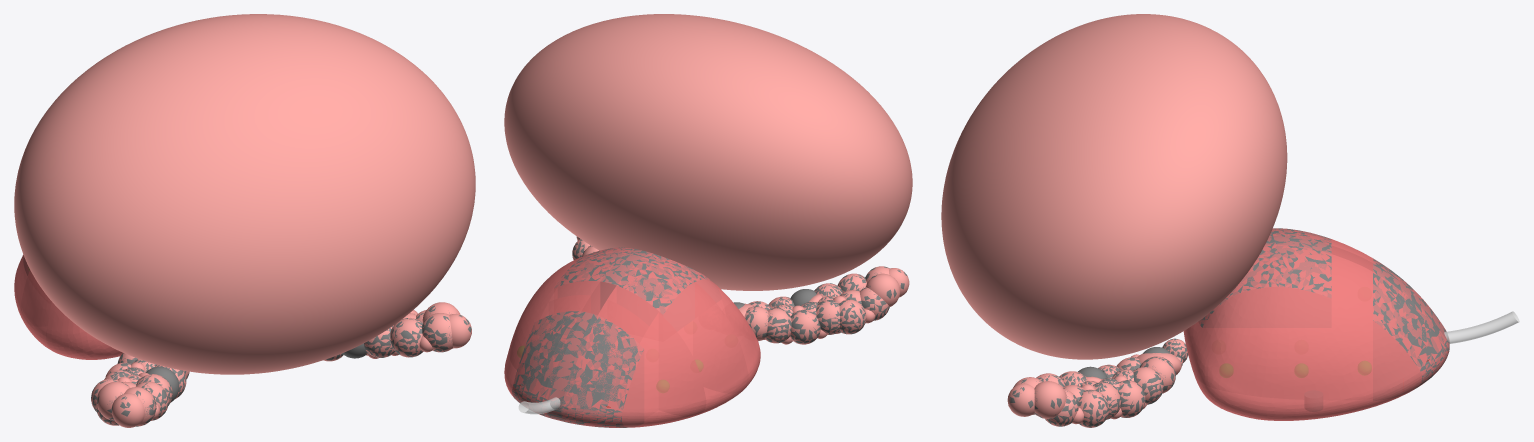
The model's file is ProstateTracked_Bladder_SV_2.fbx.
3 renders of one model, left to right at view 1: azimuth 30°, elevation 25°; view 2: azimuth 150°, elevation 25°; view 3: azimuth 270°, elevation 25°, orthographic. The views are drawn at different scales.
Visible parts, largest first — view 1: Bladder_2, S Vesicles S Spheres, Simple Prostate, S Vesicles L Spheres, Sextant Volume 7, Sextant Volume 9, Sextant Volume 11; view 2: Bladder_2, Simple Prostate, Apex Zone, Sextant Volume 11, S Vesicles S Spheres, Sextant Volume 9, Anterior Zone, S Vesicles L Spheres, Sextant Volume 12, Sextant Volume 6, Sextant Volume 7, Sextant Volume 10 (+4 smaller); view 3: Bladder_2, Simple Prostate, Sextant Volume 3, Sextant Volume 5, Sextant Volume 1, S Vesicles S Spheres, Apex Zone, S Vesicles L Spheres, Anterior Zone, Sextant Volume 6, Sextant Volume 4, Urethra Simple.
Boxes of the visible parts, <box> form: Bladder_2: <box>14,14,475,374</box>; S Vesicles S Spheres: <box>91,302,471,427</box>; Simple Prostate: <box>14,255,122,359</box>; S Vesicles L Spheres: <box>91,305,471,426</box>; Sextant Volume 7: <box>46,304,122,359</box>; Sextant Volume 9: <box>20,270,53,349</box>; Sextant Volume 11: <box>14,255,29,314</box>; Bladder_2: <box>504,14,912,290</box>; Simple Prostate: <box>504,248,760,427</box>; Apex Zone: <box>512,311,643,427</box>; Sextant Volume 11: <box>613,313,706,427</box>; S Vesicles S Spheres: <box>572,236,909,344</box>; Sextant Volume 9: <box>659,281,748,413</box>; Anterior Zone: <box>554,247,711,314</box>; S Vesicles L Spheres: <box>572,236,906,343</box>; Sextant Volume 12: <box>563,300,648,427</box>; Sextant Volume 6: <box>516,295,590,416</box>; Sextant Volume 7: <box>695,278,760,385</box>; Sextant Volume 10: <box>607,254,689,325</box>; Bladder_2: <box>941,14,1287,359</box>; Simple Prostate: <box>1183,228,1449,420</box>; Sextant Volume 3: <box>1262,283,1333,420</box>; Sextant Volume 5: <box>1333,295,1427,416</box>; Sextant Volume 1: <box>1190,286,1261,419</box>; S Vesicles S Spheres: <box>1007,339,1187,427</box>; Apex Zone: <box>1373,258,1449,389</box>; S Vesicles L Spheres: <box>1010,338,1187,427</box>; Anterior Zone: <box>1200,228,1331,327</box>; Sextant Volume 6: <box>1352,262,1448,384</box>; Sextant Volume 4: <box>1262,244,1352,301</box>; Urethra Simple: <box>1444,311,1519,343</box>.
Size of the model in its own units: 78.32 by 60.22 by 95.86.
